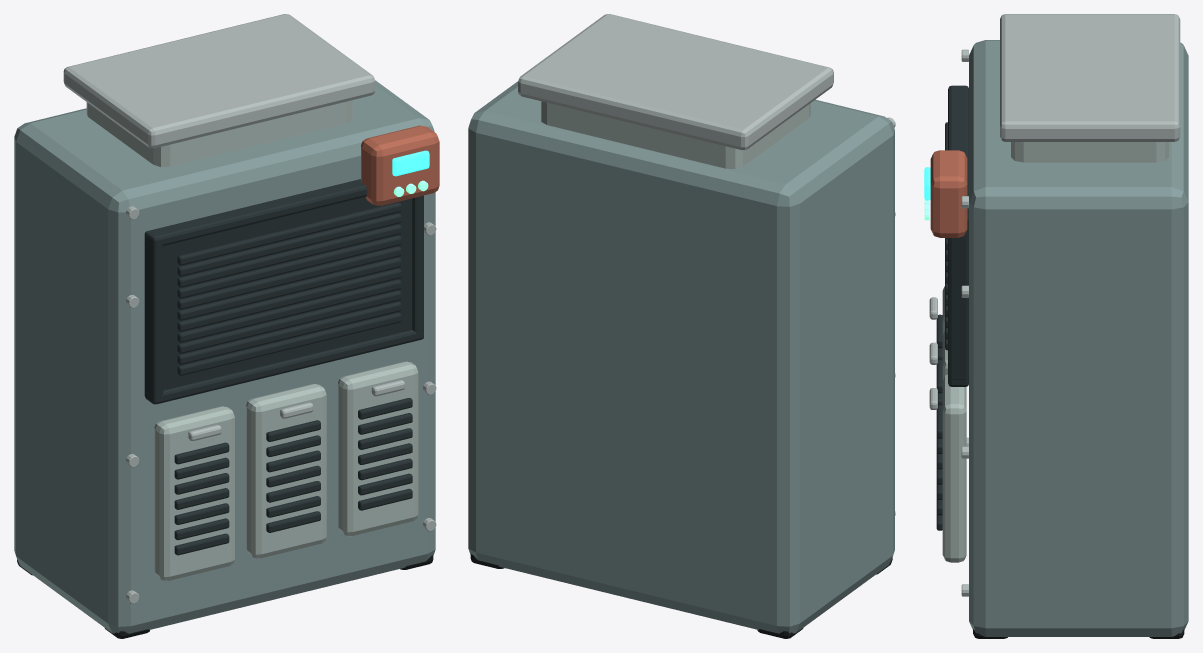
File: 07_ventilation_filter_air_handler_1p35x0p78x1p9m.glb
The picture shows the model from 3 angles, left to right: view 1: azimuth 30°, elevation 25°; view 2: azimuth 150°, elevation 25°; view 3: azimuth 270°, elevation 25°; orthographic projection.
Parts seen in each view (by area): view 1: AIR_HANDLER_Housing, AIR_HANDLER_Top_Duct_Collar, AIR_HANDLER_Upper_Intake_Panel, AIR_HANDLER_Filter_Cassette_2, AIR_HANDLER_Filter_Cassette_3, AIR_HANDLER_Filter_Cassette_1, AIR_HANDLER_Top_Duct, AIR_HANDLER_Control_Pod, AIR_HANDLER_Upper_Intake_Rail_Top, AIR_HANDLER_Upper_Intake_Rail_Bottom, AIR_HANDLER_Upper_Intake_Rail_Left, AIR_HANDLER_Upper_Louvres_Slat_5 (+33 smaller); view 2: AIR_HANDLER_Housing, AIR_HANDLER_Top_Duct_Collar, AIR_HANDLER_Top_Duct; view 3: AIR_HANDLER_Housing, AIR_HANDLER_Top_Duct_Collar, AIR_HANDLER_Filter_Cassette_3, AIR_HANDLER_Top_Duct, AIR_HANDLER_Control_Pod, AIR_HANDLER_Upper_Intake_Rail_Right, AIR_HANDLER_Upper_Intake_Rail_Top.
Boxes of the visible parts, left/top/right/bottom form: AIR_HANDLER_Housing: left=14, top=80, right=435, bottom=633; AIR_HANDLER_Top_Duct_Collar: left=63, top=14, right=375, bottom=148; AIR_HANDLER_Upper_Intake_Panel: left=163, top=196, right=412, bottom=390; AIR_HANDLER_Filter_Cassette_2: left=246, top=384, right=326, bottom=558; AIR_HANDLER_Filter_Cassette_3: left=338, top=361, right=418, bottom=536; AIR_HANDLER_Filter_Cassette_1: left=154, top=406, right=234, bottom=580; AIR_HANDLER_Top_Duct: left=86, top=100, right=352, bottom=167; AIR_HANDLER_Control_Pod: left=361, top=125, right=439, bottom=205; AIR_HANDLER_Upper_Intake_Rail_Top: left=144, top=179, right=366, bottom=246; AIR_HANDLER_Upper_Intake_Rail_Bottom: left=144, top=330, right=423, bottom=404; AIR_HANDLER_Upper_Intake_Rail_Left: left=144, top=239, right=163, bottom=397; AIR_HANDLER_Upper_Louvres_Slat_5: left=177, top=268, right=401, bottom=331; AIR_HANDLER_Housing: left=468, top=81, right=894, bottom=633; AIR_HANDLER_Top_Duct_Collar: left=518, top=14, right=833, bottom=150; AIR_HANDLER_Top_Duct: left=541, top=101, right=810, bottom=169; AIR_HANDLER_Housing: left=969, top=40, right=1188, bottom=636; AIR_HANDLER_Top_Duct_Collar: left=1000, top=14, right=1180, bottom=141; AIR_HANDLER_Filter_Cassette_3: left=942, top=374, right=966, bottom=562; AIR_HANDLER_Top_Duct: left=1011, top=142, right=1168, bottom=162; AIR_HANDLER_Control_Pod: left=930, top=150, right=967, bottom=237; AIR_HANDLER_Upper_Intake_Rail_Right: left=948, top=226, right=968, bottom=379; AIR_HANDLER_Upper_Intake_Rail_Top: left=948, top=85, right=968, bottom=226.
Size of the model in its own units: 1.35 by 1.94 by 0.938.
